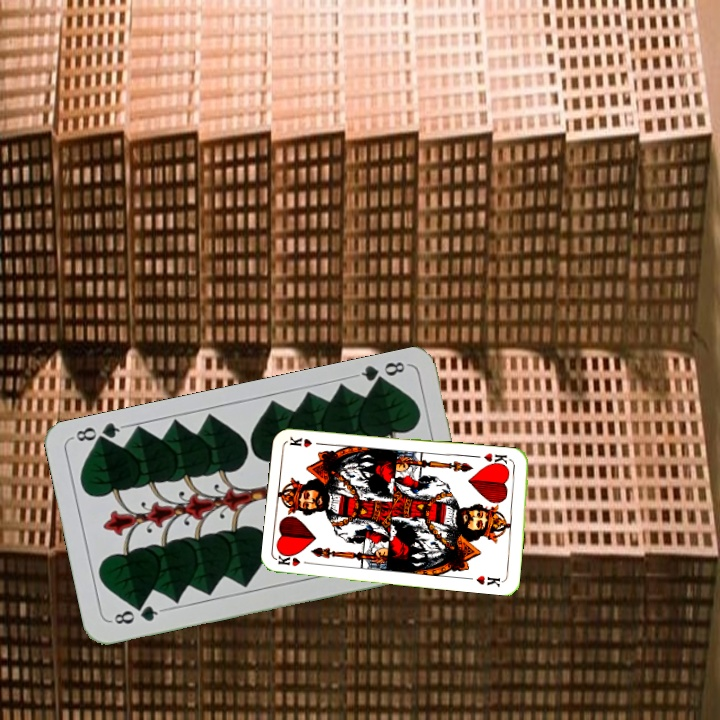G8: (351, 357, 410, 390), (107, 600, 166, 627)
HK: (275, 550, 316, 569), (480, 449, 515, 470)
